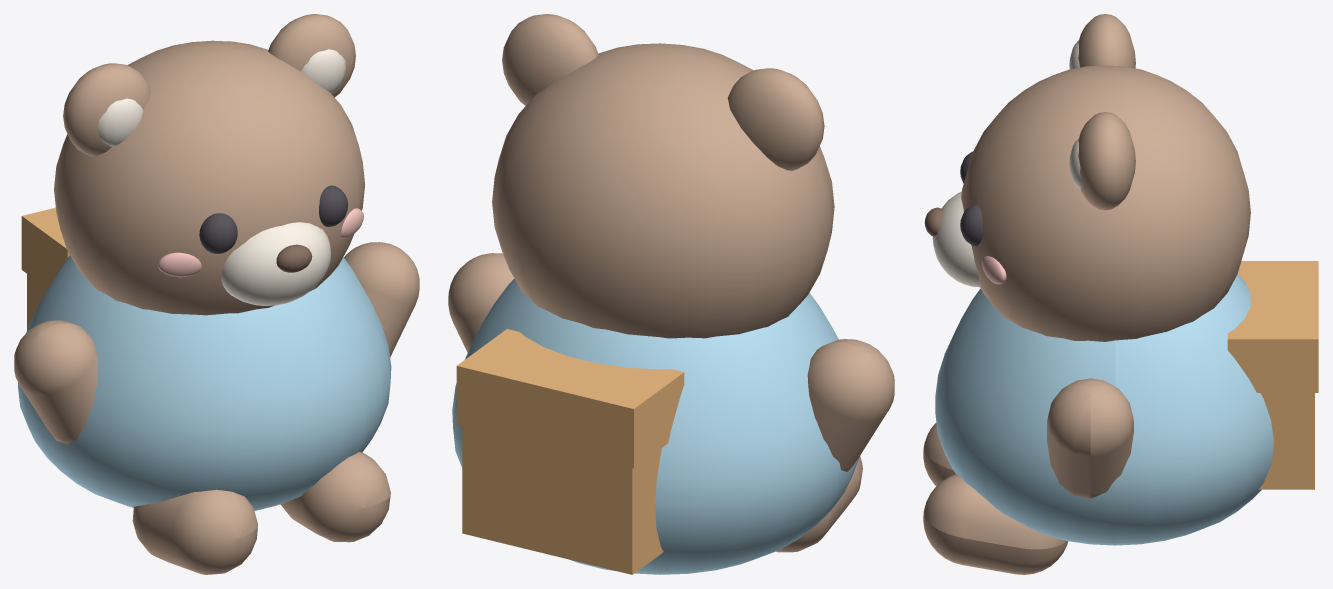
The model's file is schoolbag-bear.glb.
The picture shows the model from 3 angles, left to right: view 1: azimuth 30°, elevation 25°; view 2: azimuth 150°, elevation 25°; view 3: azimuth 270°, elevation 25°; orthographic projection. The views are drawn at different scales.
Parts seen in each view (by area): view 1: schoolbag-bear; view 2: schoolbag-bear; view 3: schoolbag-bear.
Part boxes in pixels (left/top/right/bottom): schoolbag-bear: left=14, top=14, right=419, bottom=574; schoolbag-bear: left=448, top=14, right=894, bottom=574; schoolbag-bear: left=923, top=14, right=1318, bottom=574.
Bounding box in the file's own units: 0.9202 × 1.05 × 0.8016.
